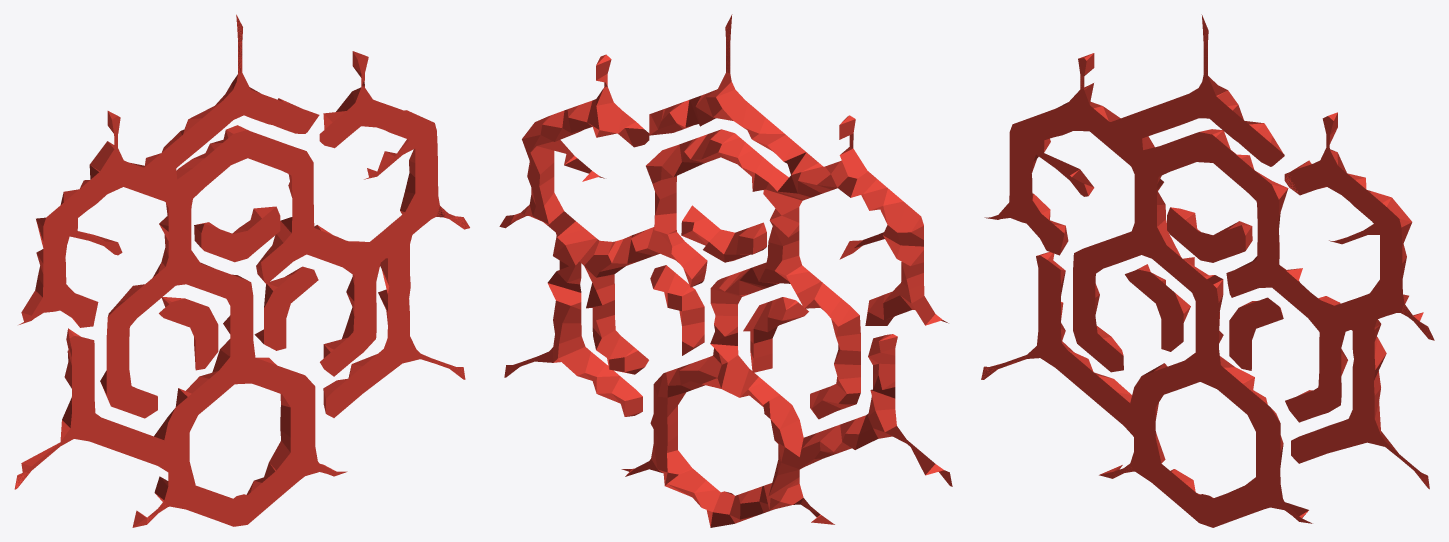
File: GRAF_3_15.glb
3 renders of one model, left to right at view 1: azimuth 30°, elevation 25°; view 2: azimuth 150°, elevation 25°; view 3: azimuth 330°, elevation 25°, orthographic.
Parts seen in each view (by area): view 1: Curve.004; view 2: Curve.004; view 3: Curve.004.
Part boxes in pixels (box(x1,y1,x2,y2)): Curve.004: box(14, 14, 469, 527); Curve.004: box(499, 14, 952, 527); Curve.004: box(981, 14, 1434, 527).
Bounding box in the file's own units: 3.38 × 3.64 × 0.1327.
